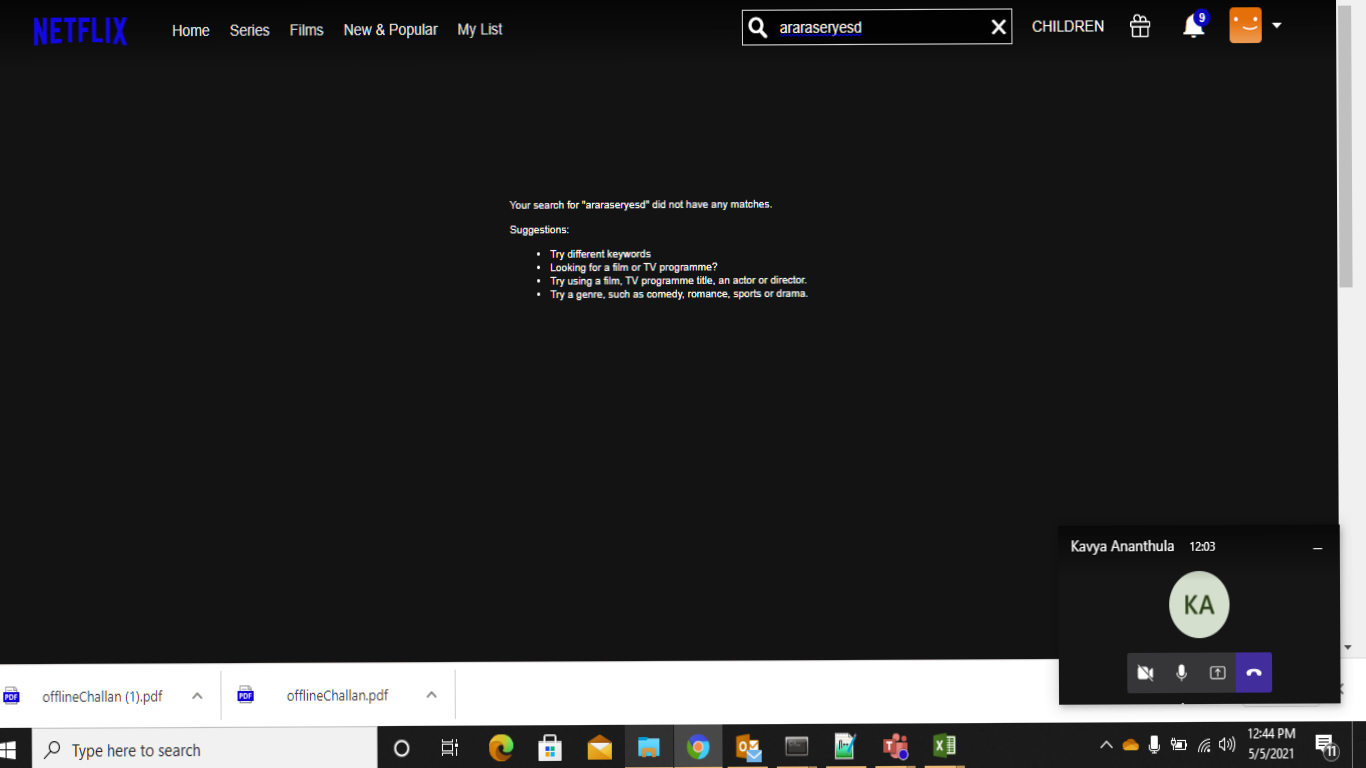mywatchlistbutton: (448, 14, 527, 52)
noresultsfound: (488, 186, 822, 325)
profileicon: (1223, 3, 1285, 45)
searchicon: (742, 14, 777, 49)
searchtextbox: (735, 4, 1020, 56)
